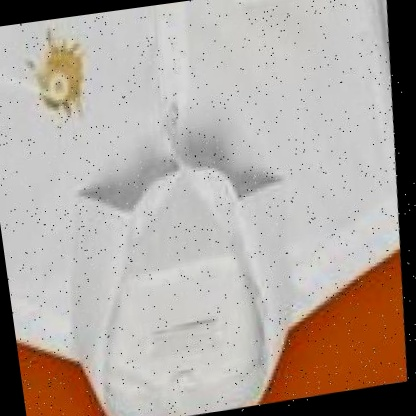coffee: (34, 45, 88, 112)
